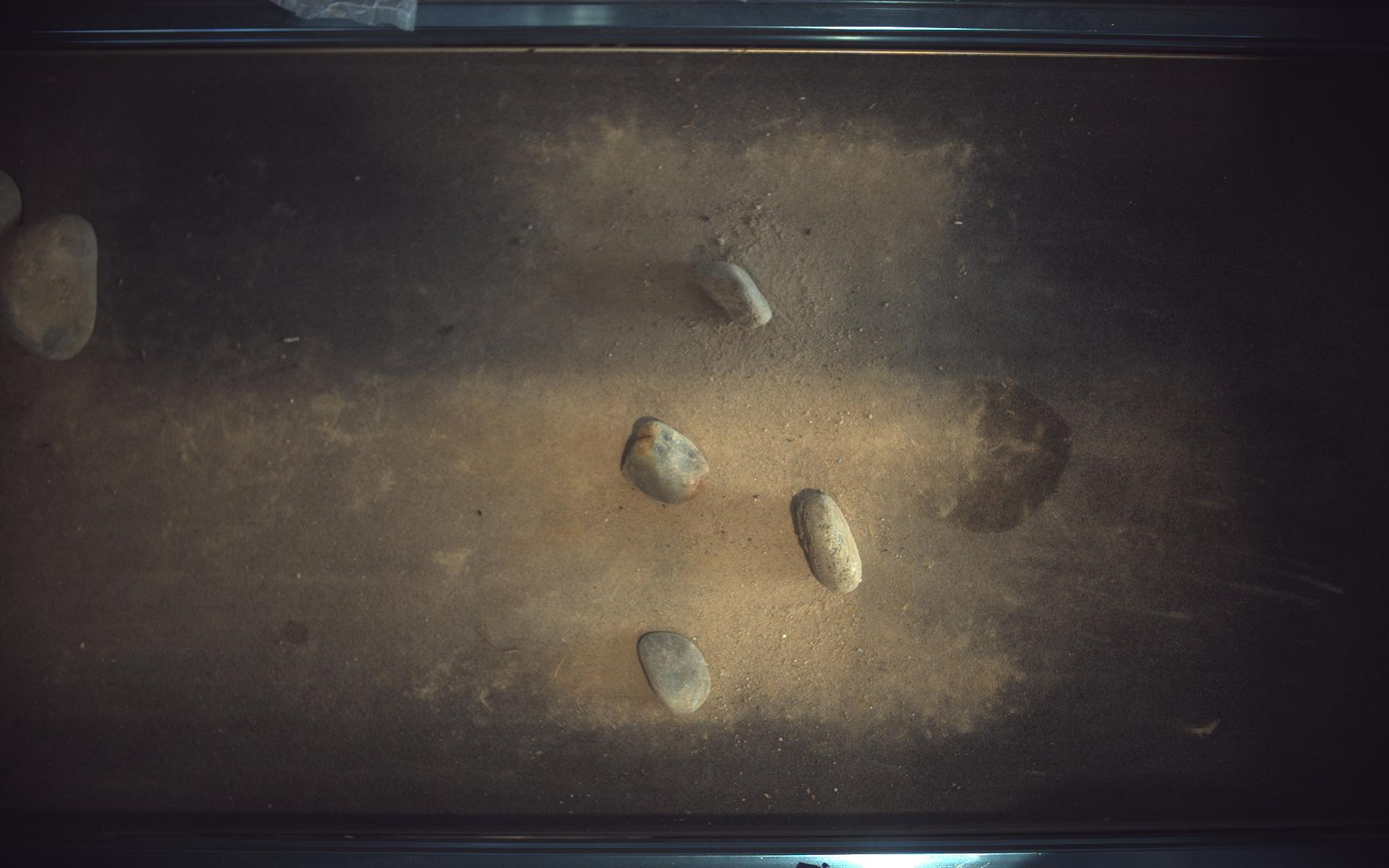stone: (1, 213, 95, 360), (621, 417, 710, 504), (791, 489, 864, 594), (638, 632, 711, 715), (697, 262, 773, 328), (1, 169, 21, 235)
